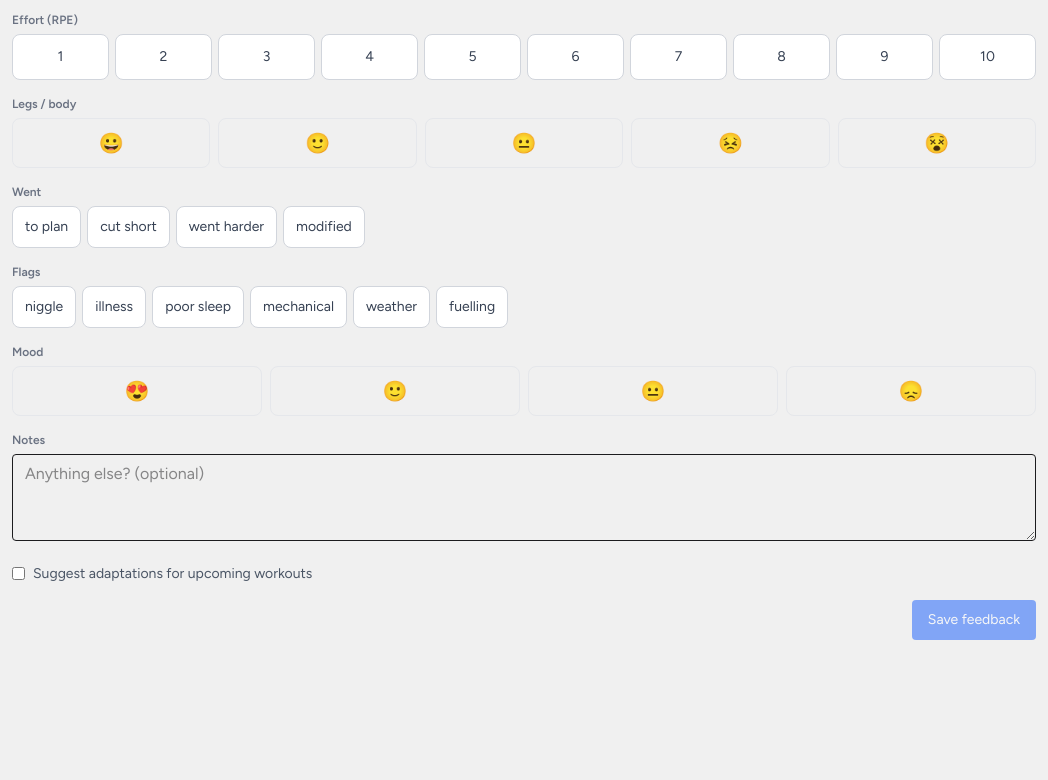
Scenario: WorkoutFeedbackTab › Save button is disabled with no signal, enabled after RPE is set
The width and height of the screenshot is (1048, 780).
Expected: the button "Save feedback" is disabled, top-left (912, 600), bottom-right (1036, 640)
Click the button named "RPE 6".
click(576, 57)  # box top-left (527, 34), bottom-right (624, 80)
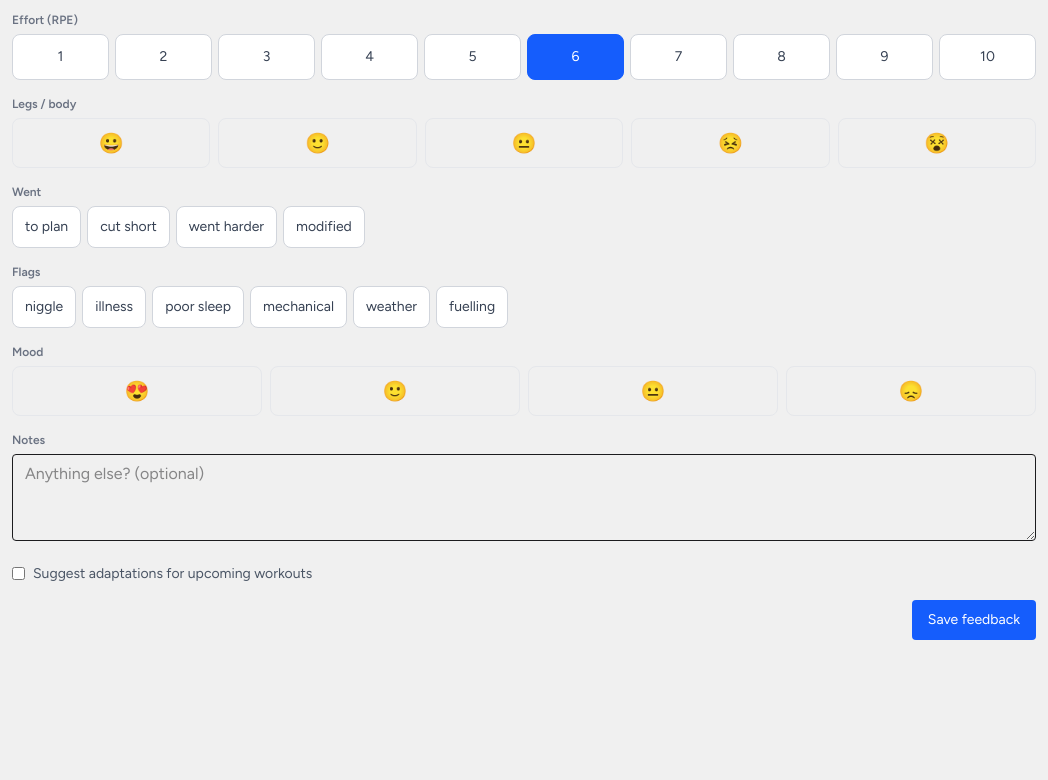
Expected: the button "Save feedback" is enabled, top-left (912, 600), bottom-right (1036, 640)
